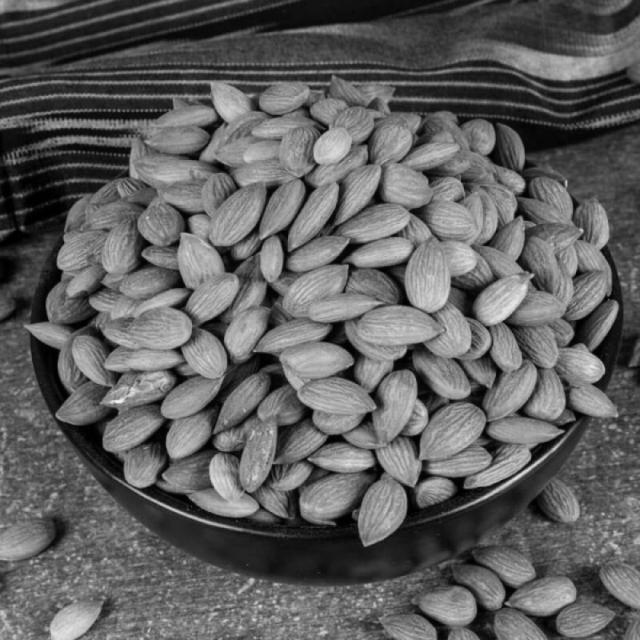Kayisi Cekirdegi: (505, 573, 581, 615), (365, 485, 404, 556), (53, 597, 103, 640)
